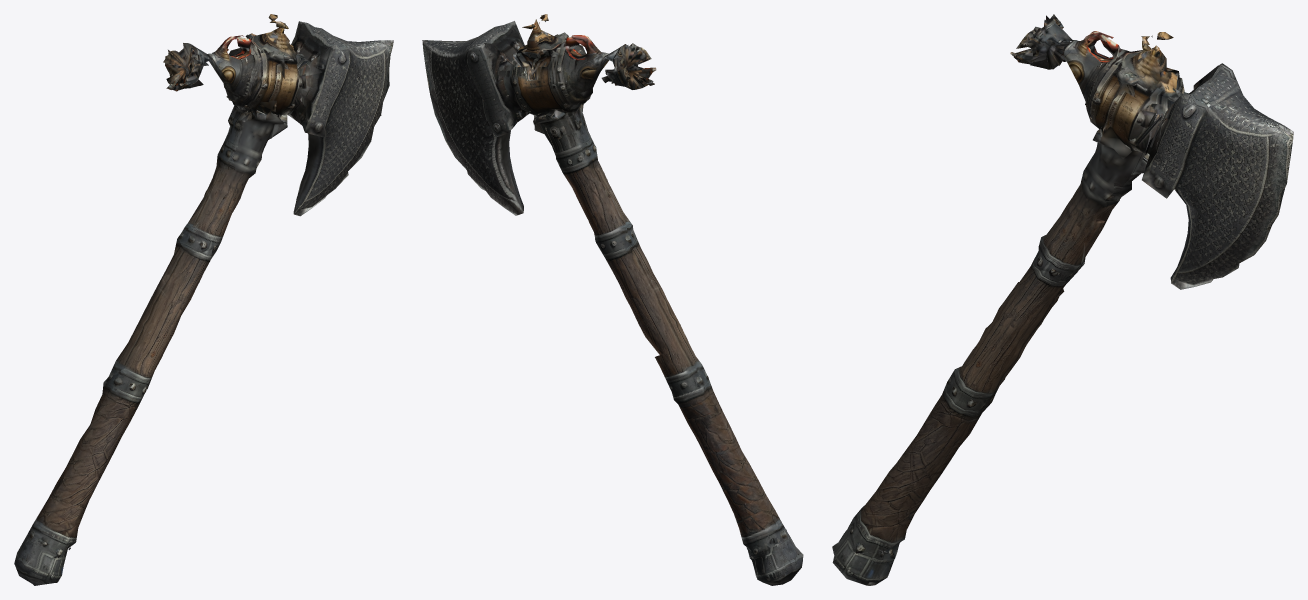
File: chg_Axe2.fbx
3 renders of one model, left to right at view 1: azimuth 30°, elevation 25°; view 2: azimuth 150°, elevation 25°; view 3: azimuth 330°, elevation 25°, orthographic. The views are drawn at different scales.
Visible parts, largest first — view 1: texture_mapping; view 2: texture_mapping; view 3: texture_mapping.
Boxes of the visible parts, <box> form: texture_mapping: <box>14,14,393,585</box>; texture_mapping: <box>422,14,803,585</box>; texture_mapping: <box>832,14,1293,585</box>.
Size of the model in its own units: 0.7742 by 0.1437 by 0.9945.
1 material, 1 textured.
